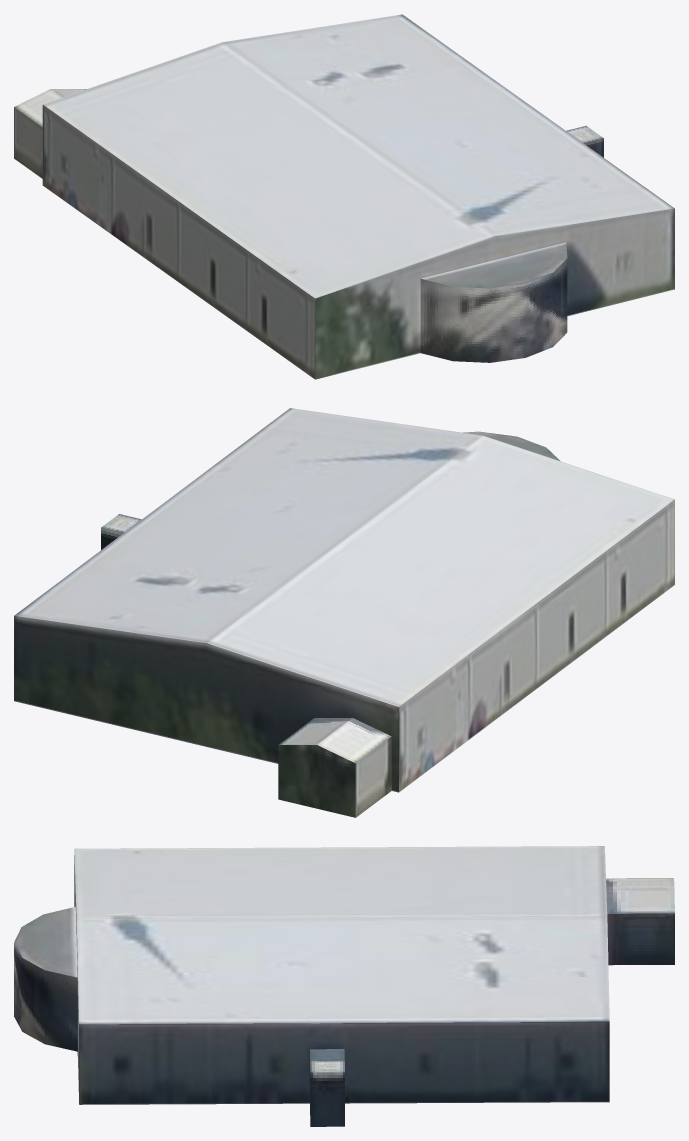
Rendered from Building-in-Manhattan,-KS,-USA-(2).fbx.
The picture shows the model from 3 angles, top to bottom: view 1: azimuth 30°, elevation 25°; view 2: azimuth 150°, elevation 25°; view 3: azimuth 270°, elevation 25°; orthographic projection. The views are drawn at different scales.
Parts seen in each view (by area): view 1: Model; view 2: Model; view 3: Model.
Boxes of the visible parts, left/top/right/bottom form: Model: left=14, top=14, right=674, bottom=379; Model: left=14, top=408, right=674, bottom=817; Model: left=14, top=846, right=674, bottom=1126.
Bounding box in the file's own units: 975 × 222 × 1360.
